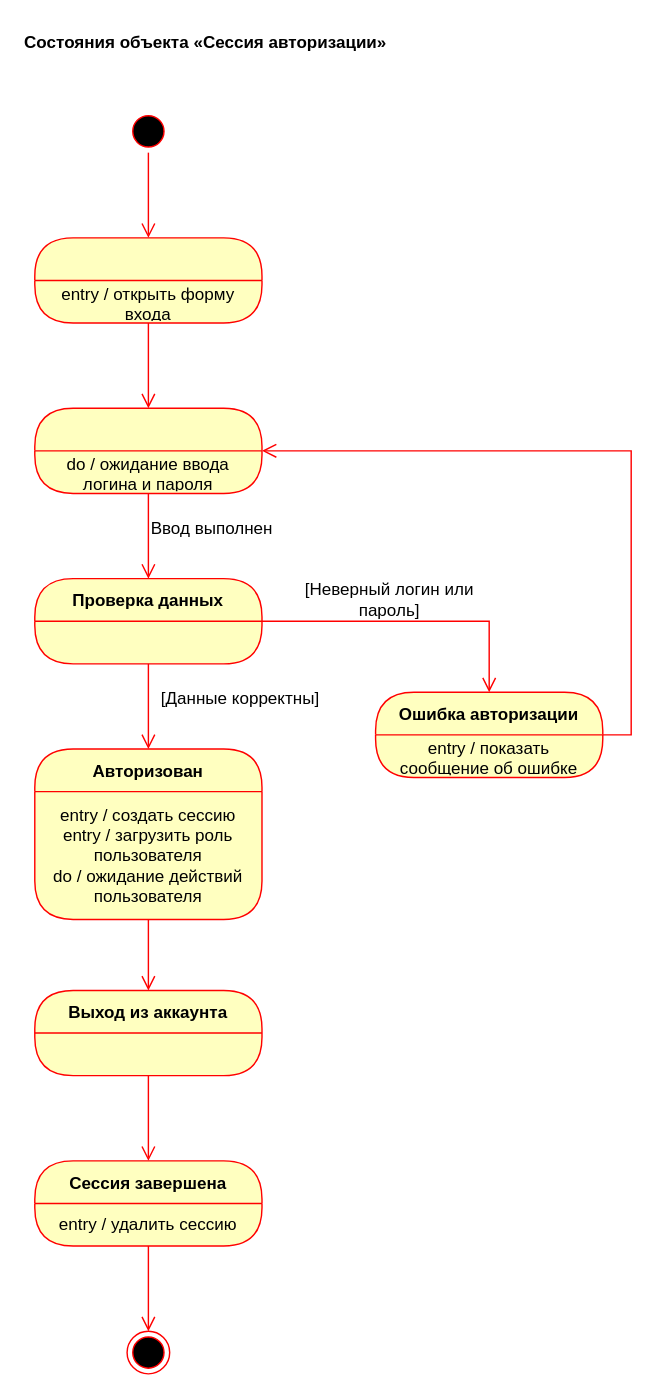
The diagram is 670 pixels wide and 1399 high, and some of its shapes have lost their labels. Each missing label, with the box of its shape:
Ввод данных: (33, 407, 262, 493)
Неавторизован: (33, 236, 262, 323)
